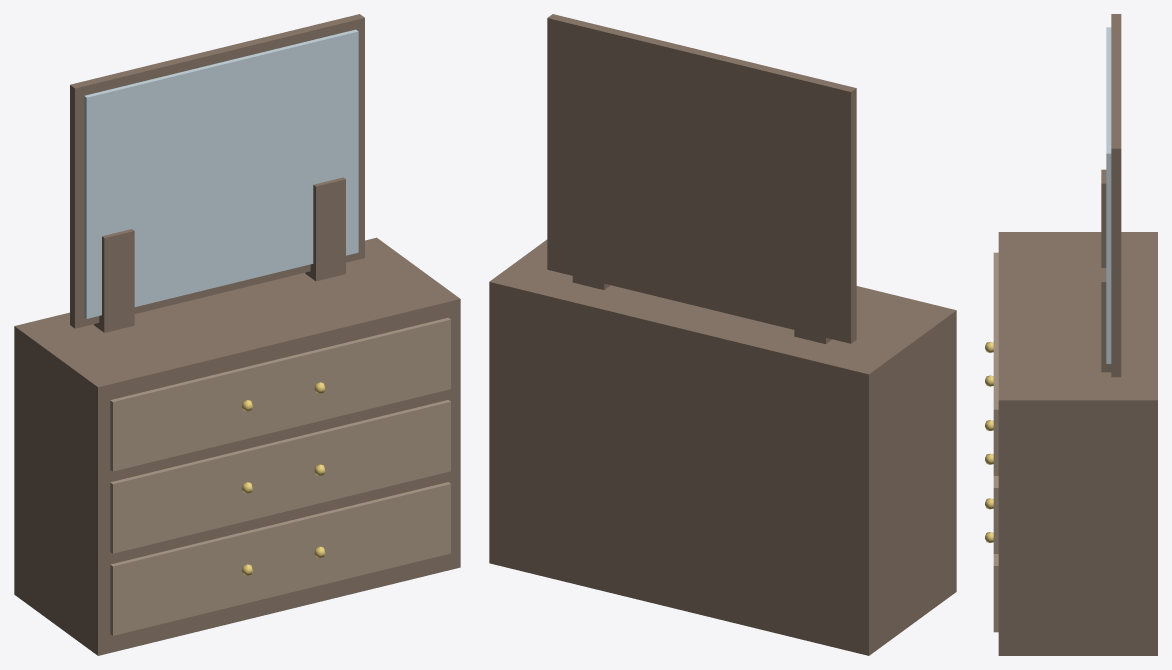
Rendered from Dresser.glb.
3 views of the same model, side by side, from view 1: azimuth 30°, elevation 25°; view 2: azimuth 150°, elevation 25°; view 3: azimuth 270°, elevation 25° (orthographic). The views are drawn at different scales.
Parts seen in each view (by area): view 1: Dresser; view 2: Dresser; view 3: Dresser.
Boxes of the visible parts, bbox=[...] form: Dresser: bbox=[14, 14, 460, 655]; Dresser: bbox=[489, 14, 956, 655]; Dresser: bbox=[985, 14, 1157, 655].
Bounding box in the file's own units: 1.2 × 1.63 × 0.5206.
